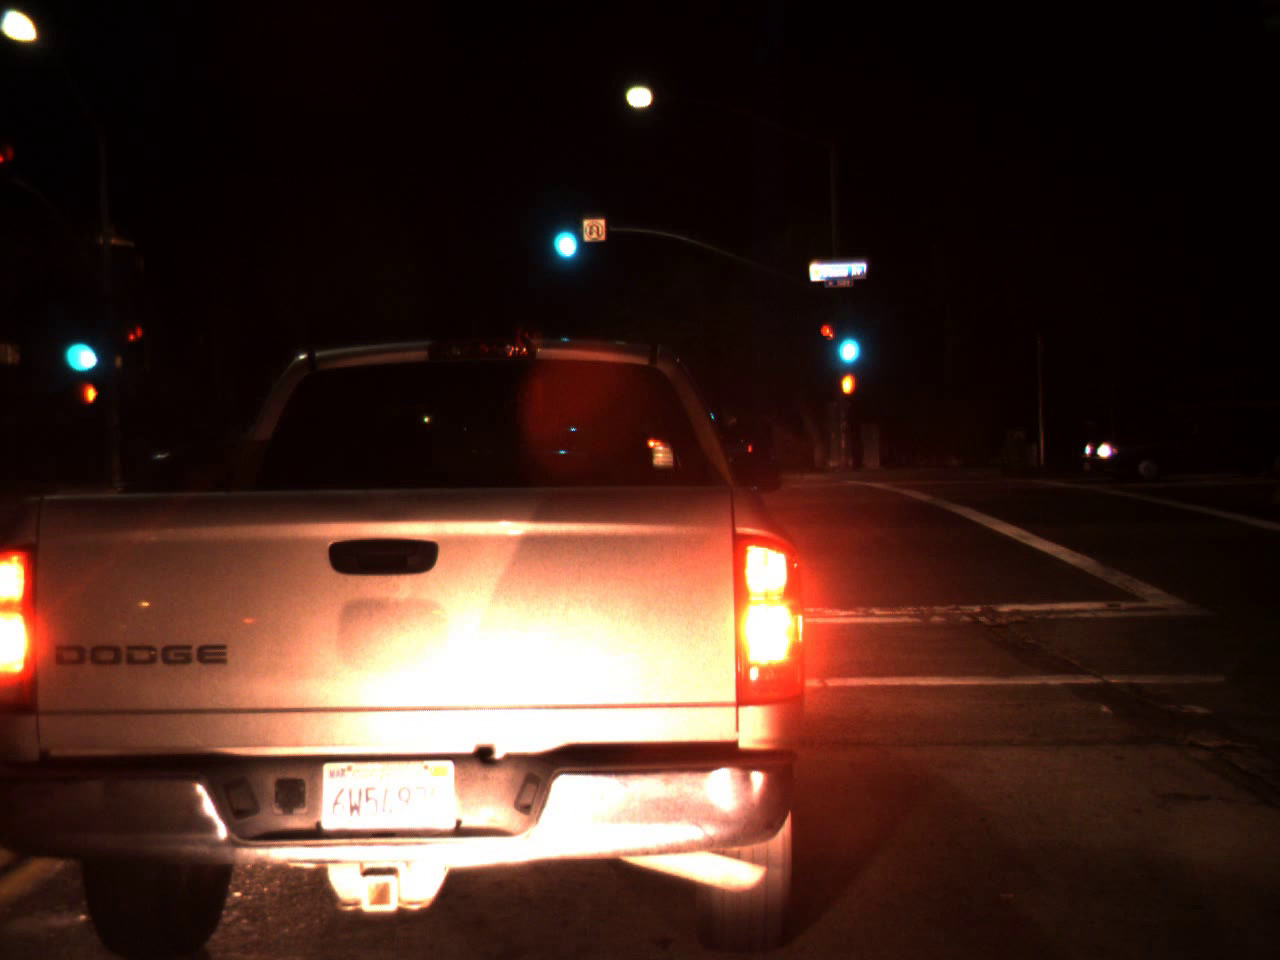go: (55, 307, 100, 382), (544, 194, 581, 269), (830, 307, 864, 373)
